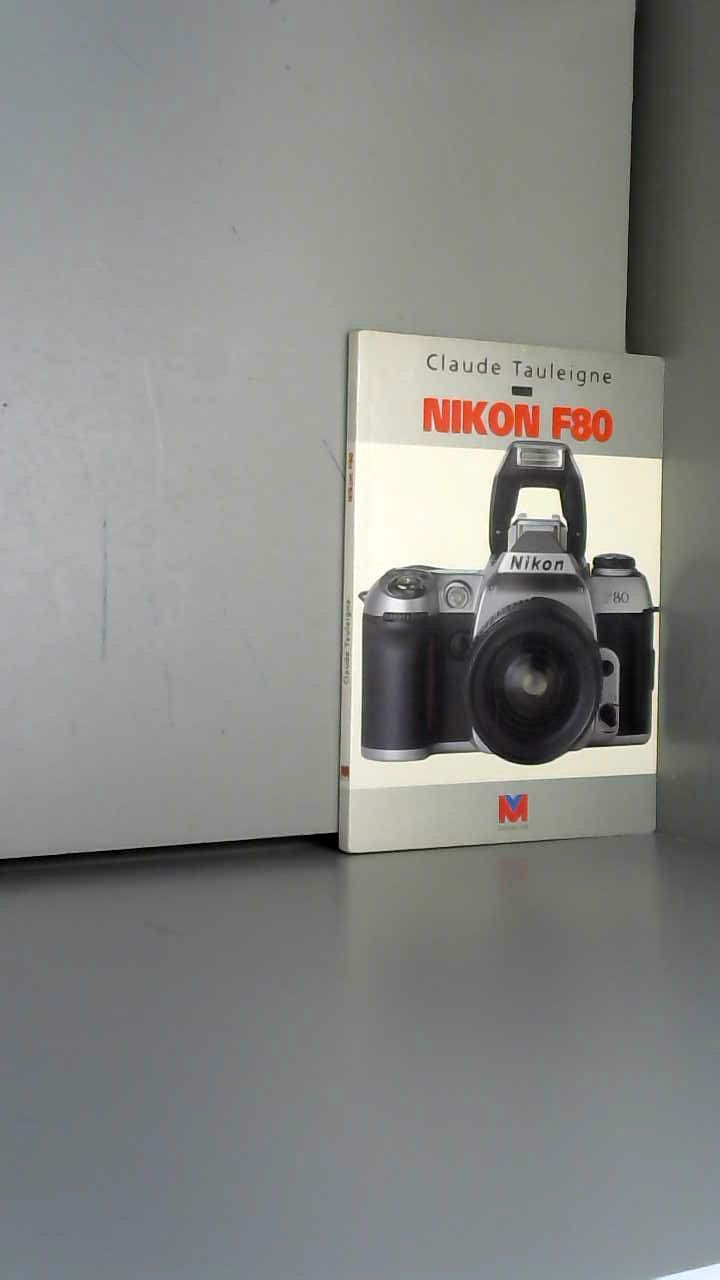book: (320, 310, 718, 883)
